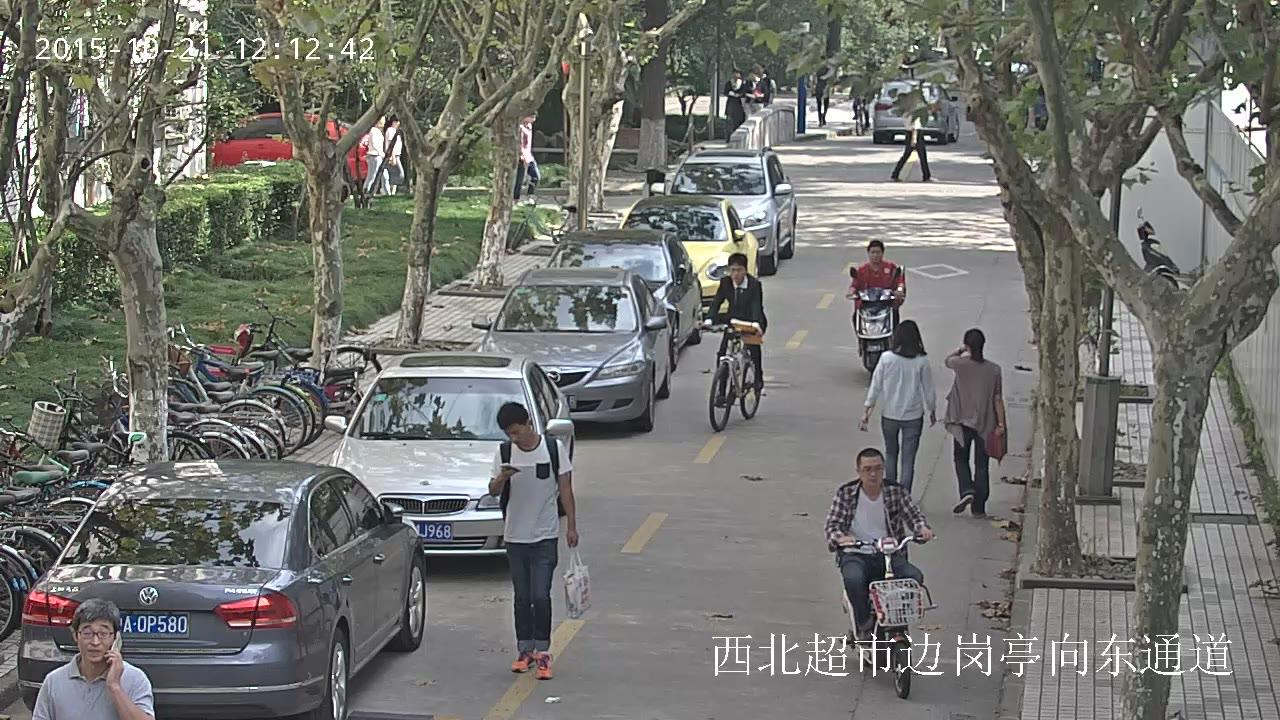person: (817, 446, 937, 697), (486, 401, 593, 680), (819, 448, 936, 648), (29, 597, 156, 720), (859, 319, 936, 498), (941, 329, 1009, 516), (698, 251, 768, 431), (700, 251, 767, 404), (845, 240, 906, 380), (846, 239, 906, 335), (888, 105, 940, 182), (512, 108, 541, 206), (360, 115, 391, 200), (381, 116, 406, 197), (722, 70, 746, 142), (744, 59, 775, 111), (846, 87, 873, 135), (847, 87, 872, 129), (814, 68, 829, 126)
